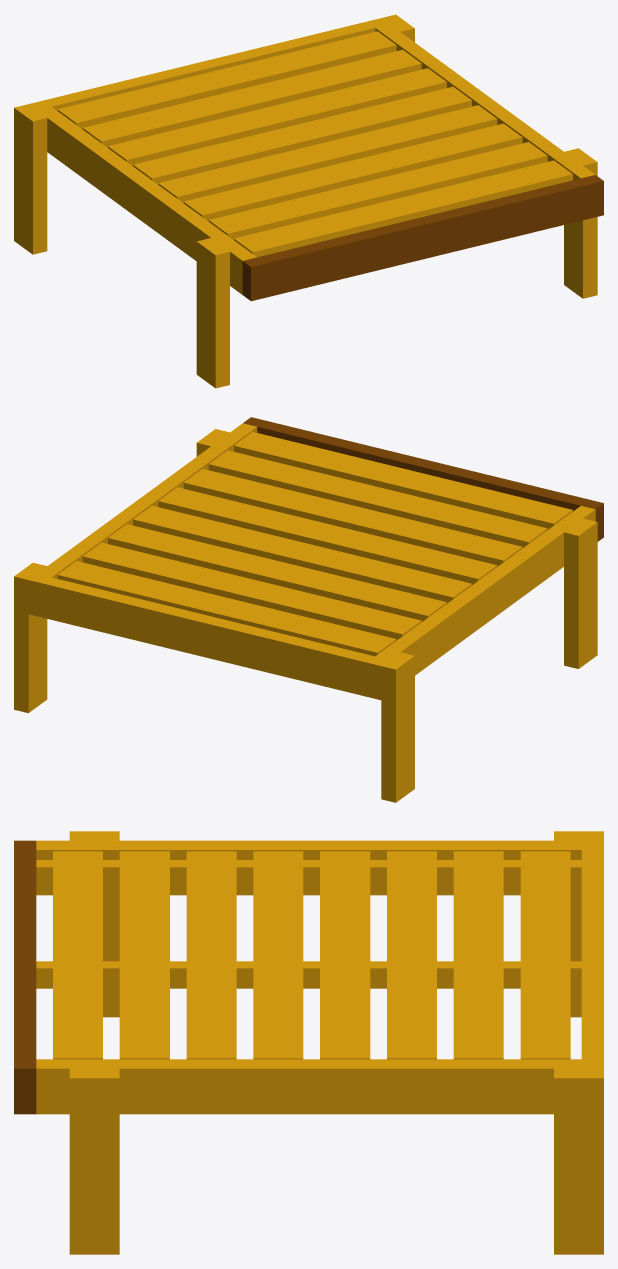
Rendered from bed4.glb.
The picture shows the model from 3 angles, top to bottom: view 1: azimuth 30°, elevation 25°; view 2: azimuth 150°, elevation 25°; view 3: azimuth 270°, elevation 25°; orthographic projection. The views are drawn at different scales.
Parts seen in each view (by area): view 1: girder1.1, girder1.3, beam1.4, beam1.3, beam1.8, beam1.7, beam1.2, beam1.6, beam1.5, beam1.1, leg1.1, leg1.3 (+3 smaller); view 2: girder1.2, girder1.3, beam1.2, beam1.7, beam1.3, beam1.4, beam1.6, beam1.1, beam1.5, beam1.8, girder1.1, leg1.3 (+3 smaller); view 3: girder1.4, beam1.2, beam1.3, beam1.4, beam1.5, beam1.7, beam1.8, beam1.1, beam1.6, leg1.2, leg1.4, girder1.3 (+6 smaller).
Part boxes in pixels (x1,y1,x2,y2): girder1.1: (242, 175, 603, 301); girder1.3: (37, 106, 256, 294); beam1.4: (158, 105, 497, 202); beam1.3: (183, 123, 522, 221); beam1.8: (57, 31, 396, 129); beam1.7: (82, 49, 421, 147); beam1.2: (208, 142, 547, 239); beam1.6: (108, 68, 446, 165); beam1.5: (133, 86, 471, 184); beam1.1: (234, 160, 572, 257); leg1.1: (196, 238, 229, 388); leg1.3: (14, 104, 47, 254); girder1.2: (28, 574, 389, 700); girder1.3: (375, 506, 595, 675); beam1.2: (208, 450, 547, 547); beam1.7: (82, 542, 421, 640); beam1.3: (183, 469, 522, 566); beam1.4: (158, 487, 497, 585); beam1.6: (108, 524, 446, 621); beam1.1: (234, 432, 572, 529); beam1.5: (133, 505, 471, 603); beam1.8: (57, 561, 396, 656); girder1.1: (243, 417, 603, 541); leg1.3: (381, 652, 414, 802); girder1.4: (36, 1059, 581, 1114); beam1.2: (119, 851, 169, 1059); beam1.3: (186, 851, 236, 1059); beam1.4: (253, 851, 303, 1059); beam1.5: (320, 851, 370, 1059); beam1.7: (453, 851, 503, 1059); beam1.8: (520, 851, 570, 1059); beam1.1: (53, 851, 102, 1059); beam1.6: (387, 851, 436, 1059); leg1.2: (69, 1068, 119, 1254); leg1.4: (554, 1068, 603, 1254); girder1.3: (36, 840, 581, 895).
Size of the model in its own units: 1.05 by 0.35 by 1.06.
